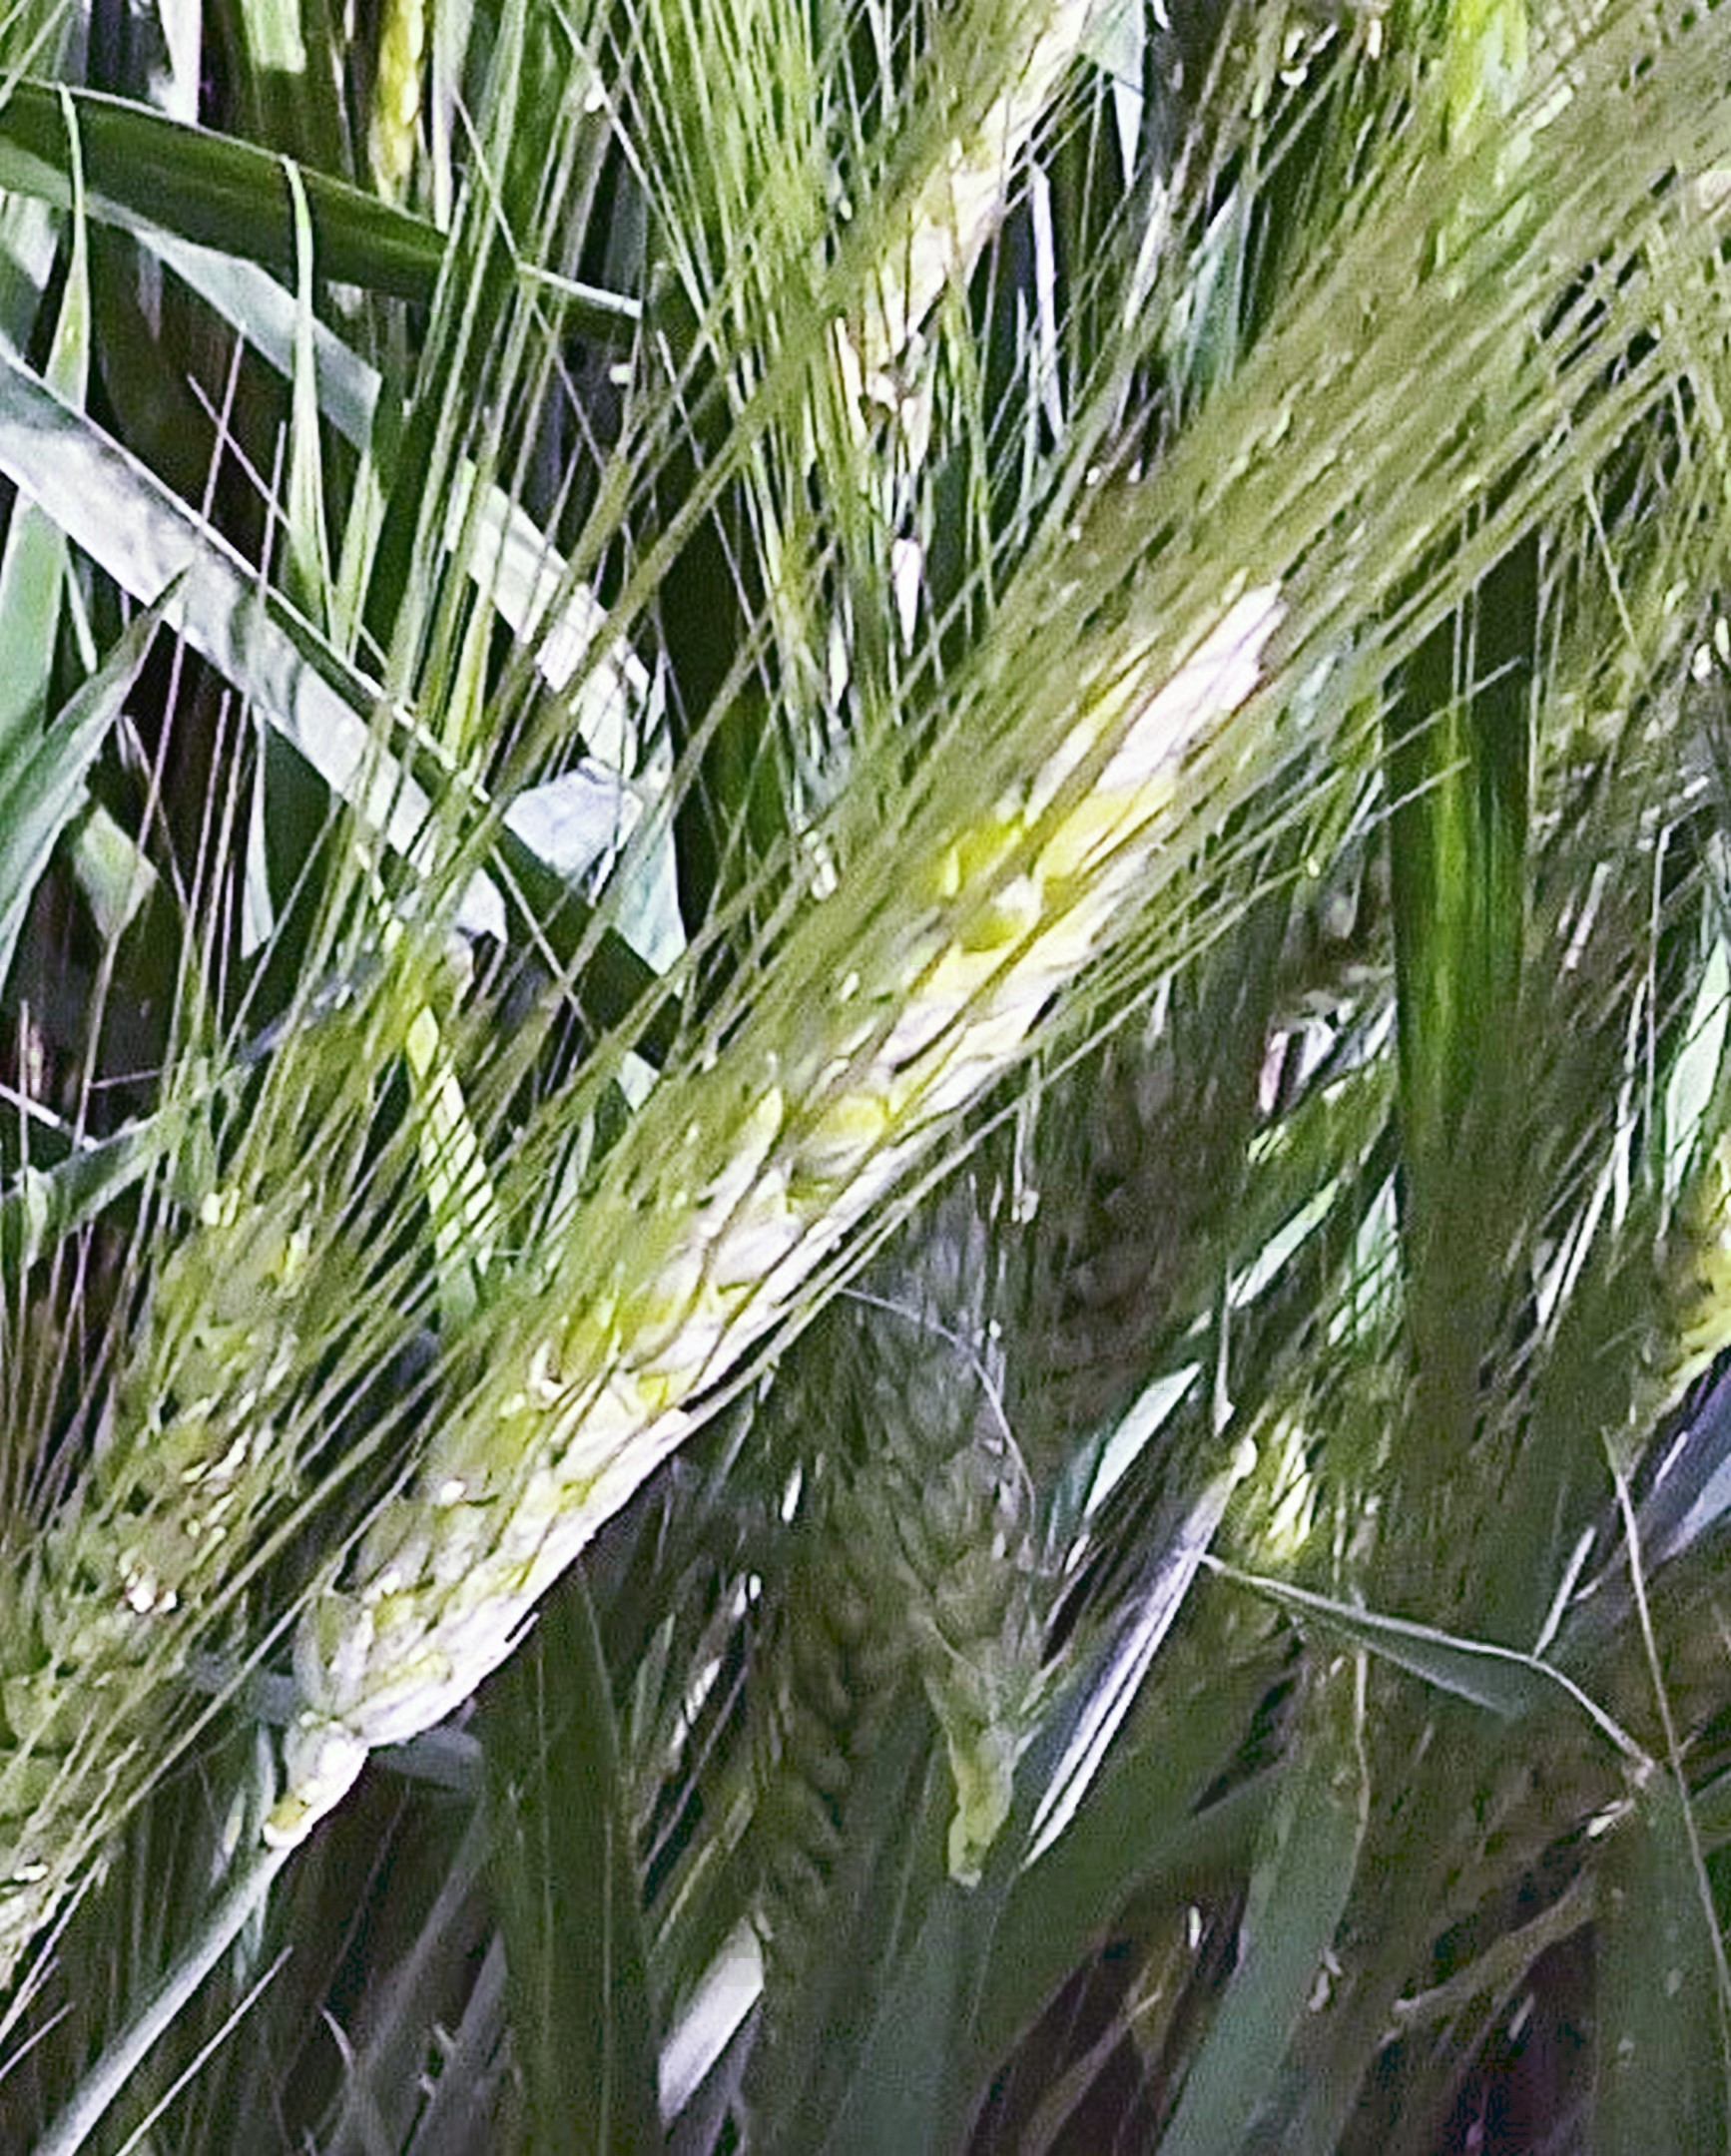Healthy Wheat: (330, 441, 1385, 1762)
